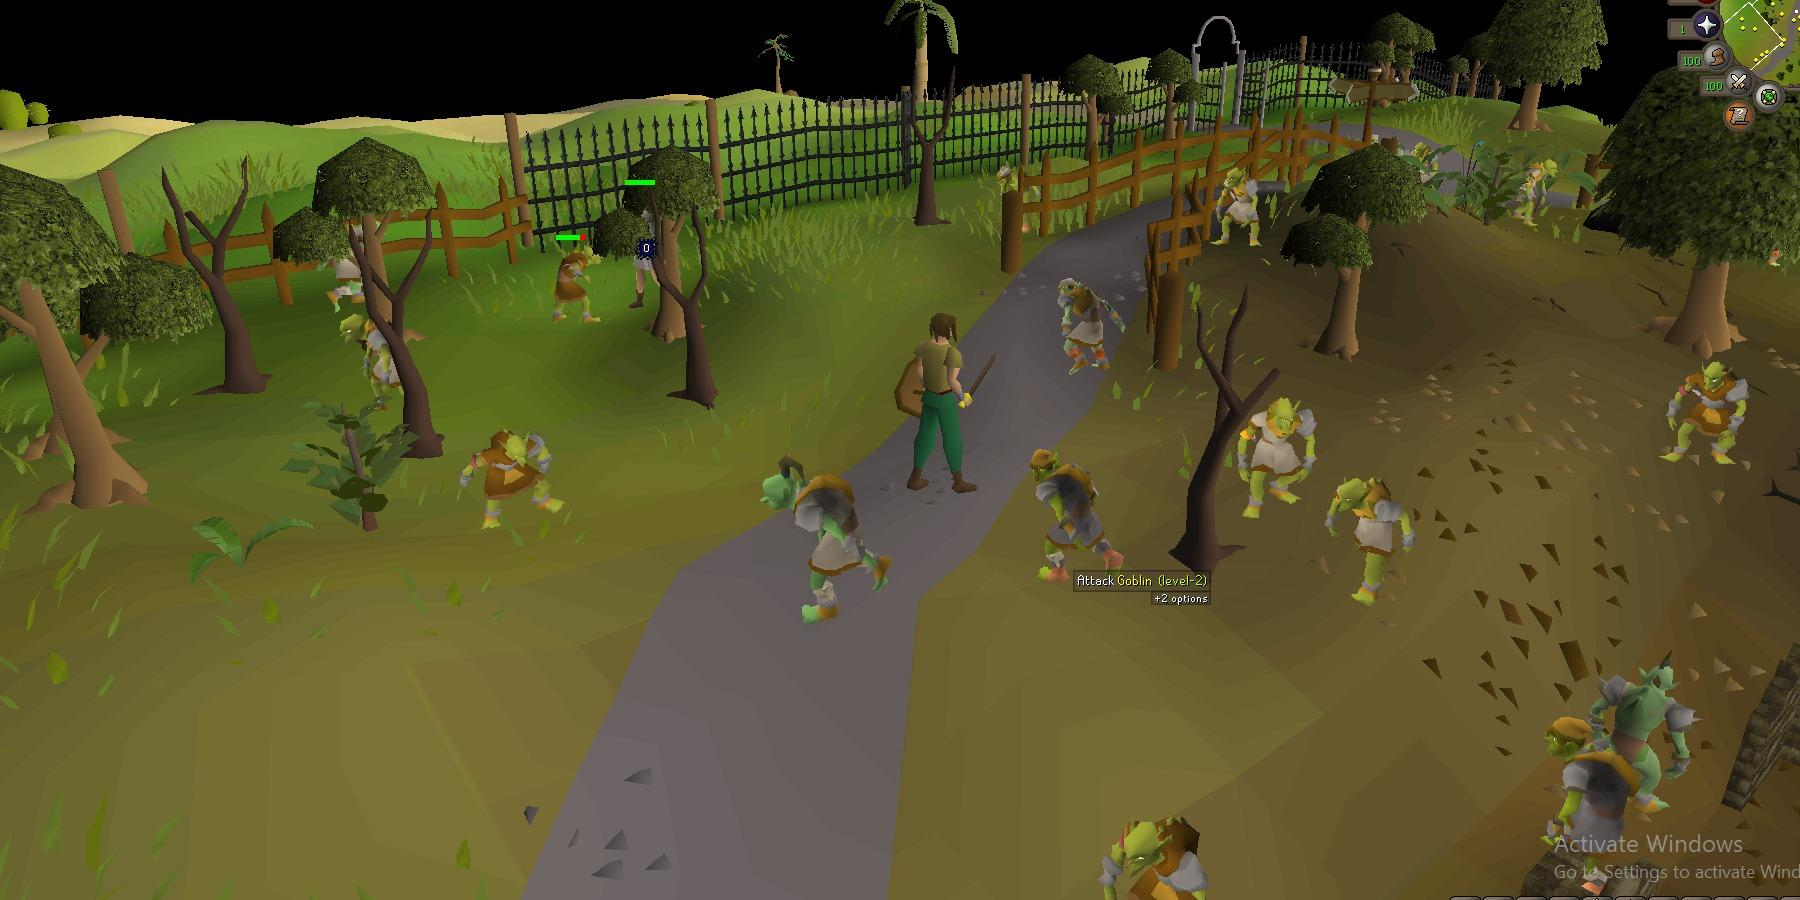goblin: (757, 456, 893, 624), (1586, 650, 1696, 816), (1541, 717, 1640, 877), (1025, 449, 1127, 584), (1326, 479, 1421, 604), (458, 430, 566, 530), (1655, 359, 1746, 470), (1236, 396, 1316, 518), (1099, 818, 1207, 900), (1056, 278, 1127, 377), (340, 315, 406, 413), (316, 217, 383, 313), (546, 247, 611, 327), (1210, 166, 1264, 248), (993, 164, 1041, 232), (1511, 158, 1557, 226), (1409, 140, 1440, 187)
